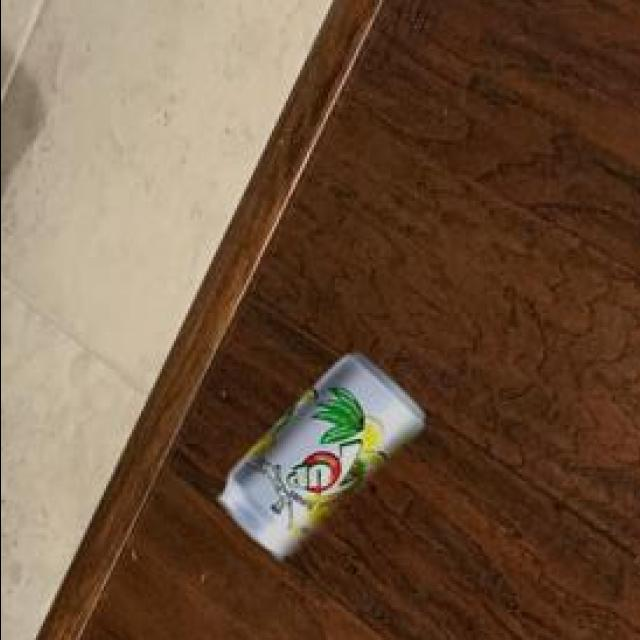logam: (214, 359, 419, 559)
